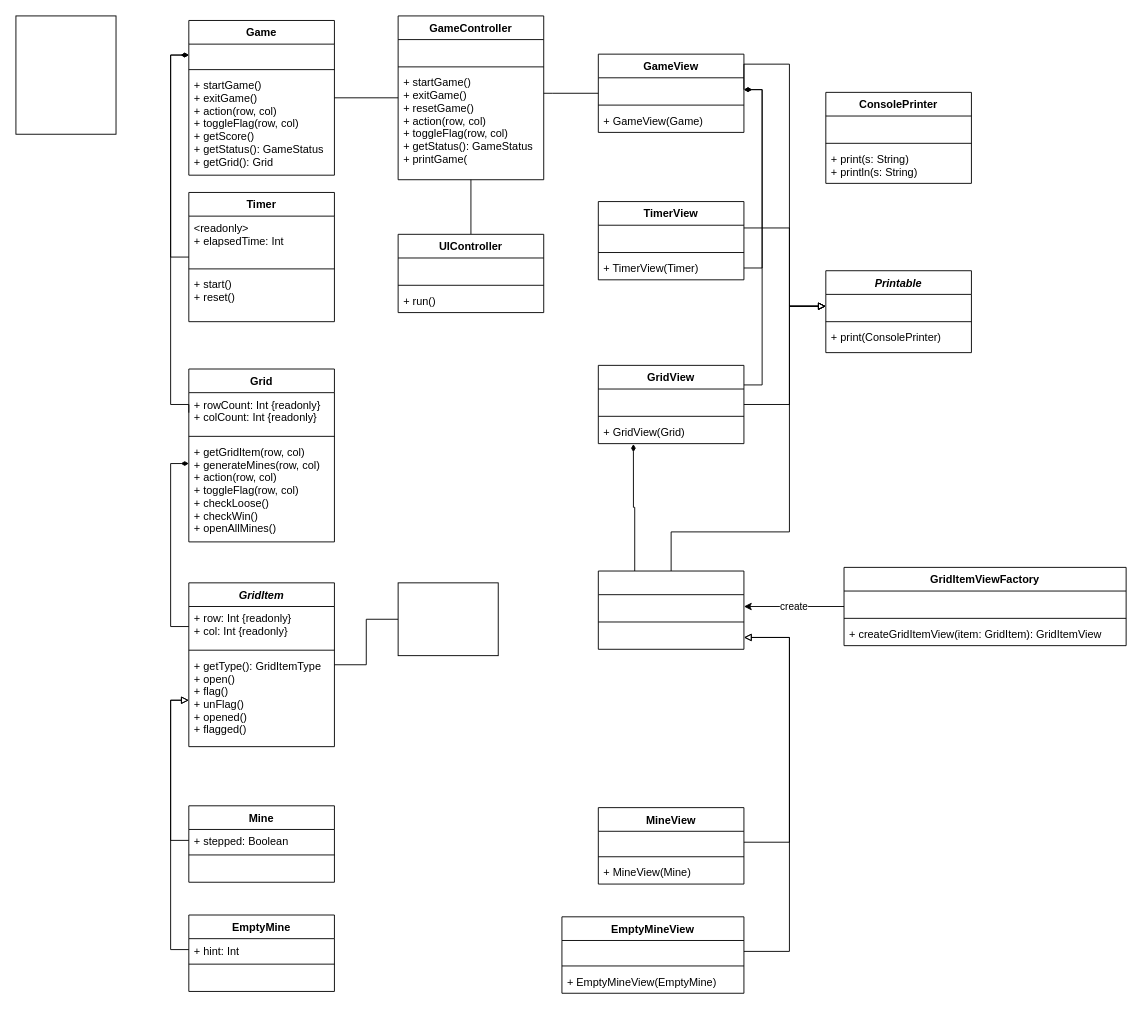
The diagram is 1142 pixels wide and 1012 high, and some of its shapes have lost their labels. Here are the shapes that lost their labels. From the top down, the centre of each, then its label:
At pixel 65 74: "«enumeration» GameStatus INIT START WIN LOSE EXIT".
At pixel 447 619: "«enumeration» GridItemType Mine EmptyMine".
At pixel 670 609: "GridItemView".
